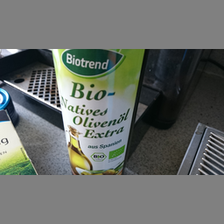oil: (51, 49, 146, 175)
